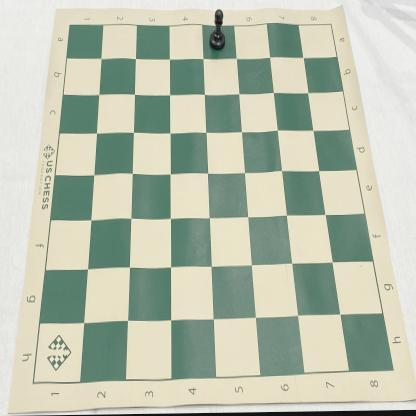black-pawn: (209, 9, 227, 53)
